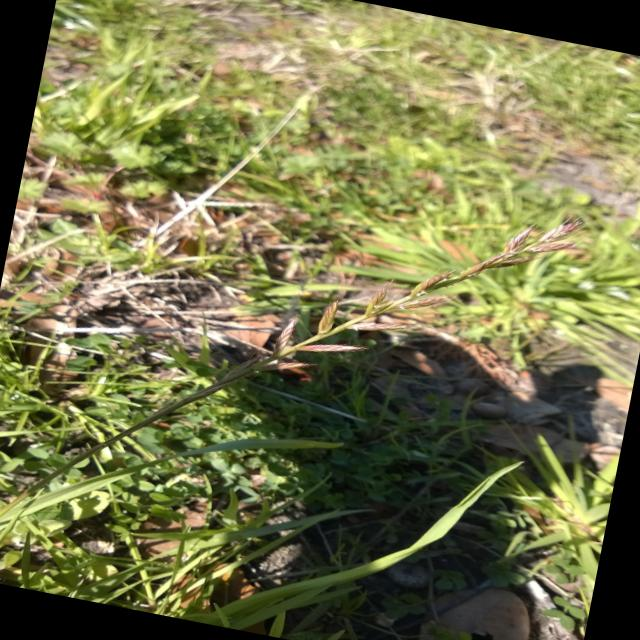Lolium: (176, 144, 596, 474)
